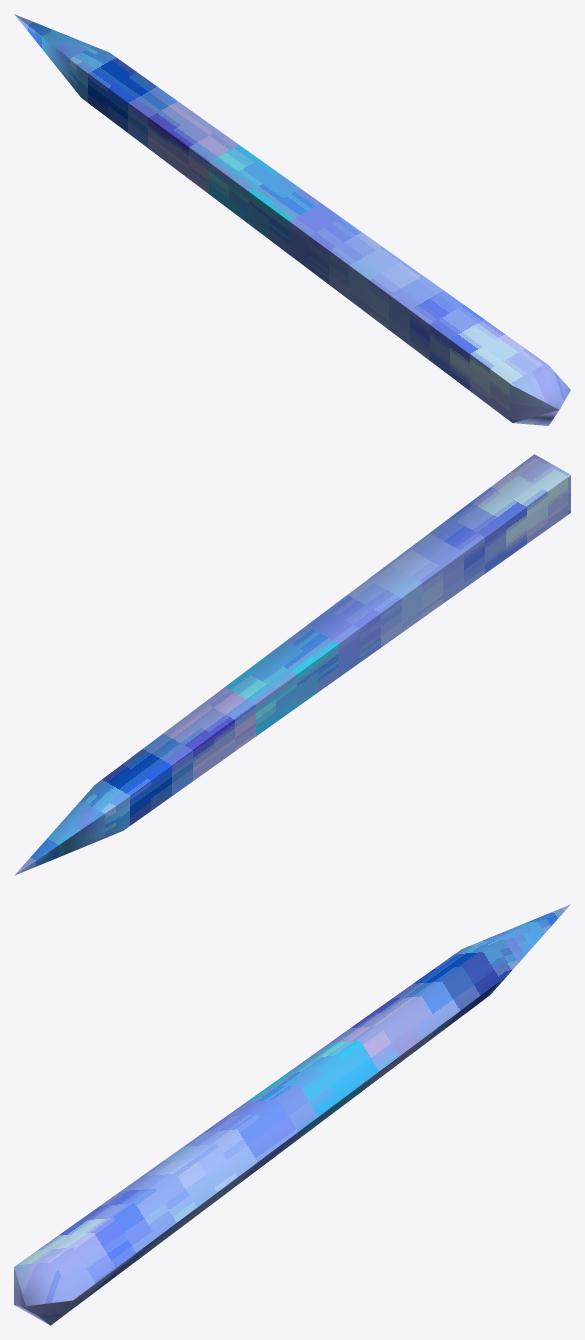
Rendered from wp_aroma.glb.
3 views of the same model, one above another, from view 1: azimuth 30°, elevation 25°; view 2: azimuth 150°, elevation 25°; view 3: azimuth 330°, elevation 25° (orthographic).
Visible parts, largest first — view 1: wp_aroma; view 2: wp_aroma; view 3: wp_aroma.
Boxes of the visible parts, x1,y1,x2,y2 form: wp_aroma: (14,14,570,425); wp_aroma: (14,454,570,875); wp_aroma: (14,904,570,1325).
Size of the model in its own units: 0.022 by 0.0219 by 0.3541.
1 material, 1 textured.
